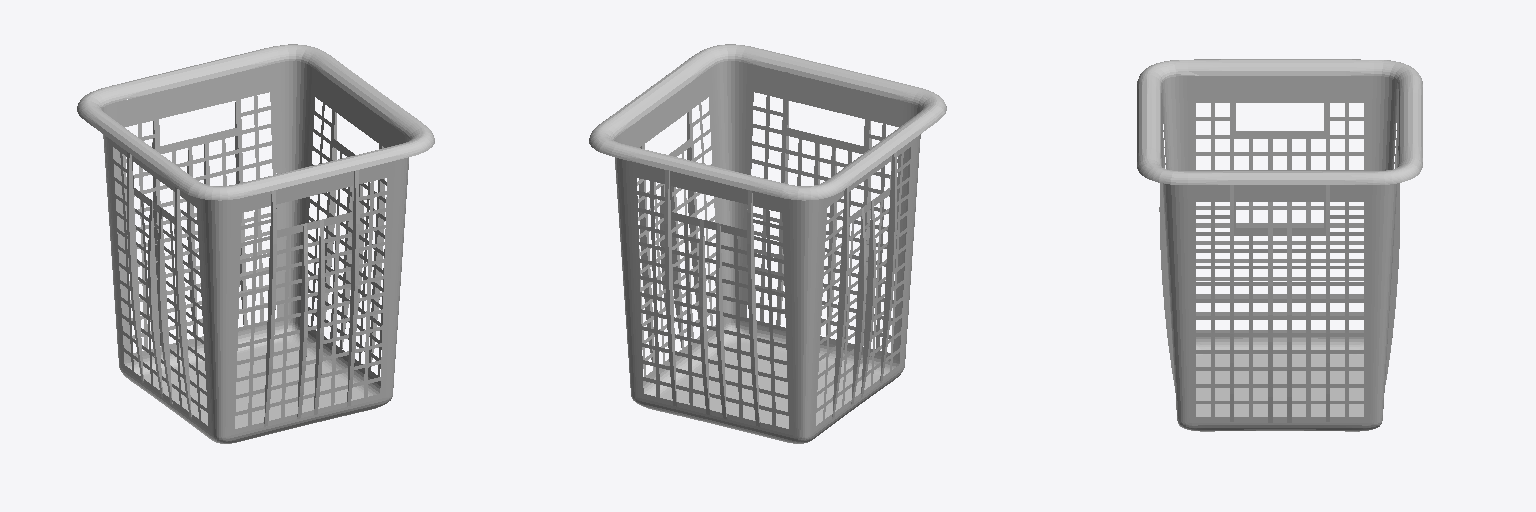
The model's file is Basket.obj.
3 renders of one model, left to right at view 1: azimuth 30°, elevation 25°; view 2: azimuth 150°, elevation 25°; view 3: azimuth 270°, elevation 25°, orthographic.
Parts seen in each view (by area): view 1: Basket; view 2: Basket; view 3: Basket.
Boxes of the visible parts, x1=… form: Basket: x1=77, y1=44, x2=434, y2=443; Basket: x1=589, y1=44, x2=946, y2=443; Basket: x1=1137, y1=59, x2=1422, y2=431.
Size of the model in its own units: 19.48 by 20.93 by 19.48.